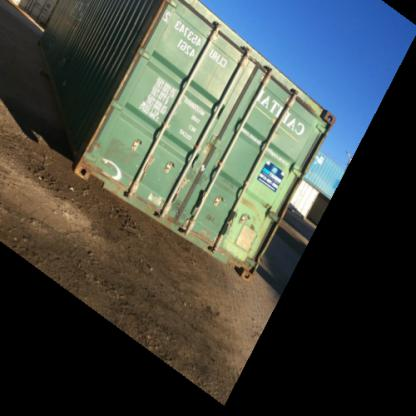Damage: (94, 133, 142, 185), (169, 197, 191, 235), (186, 167, 207, 193), (201, 210, 218, 226)
